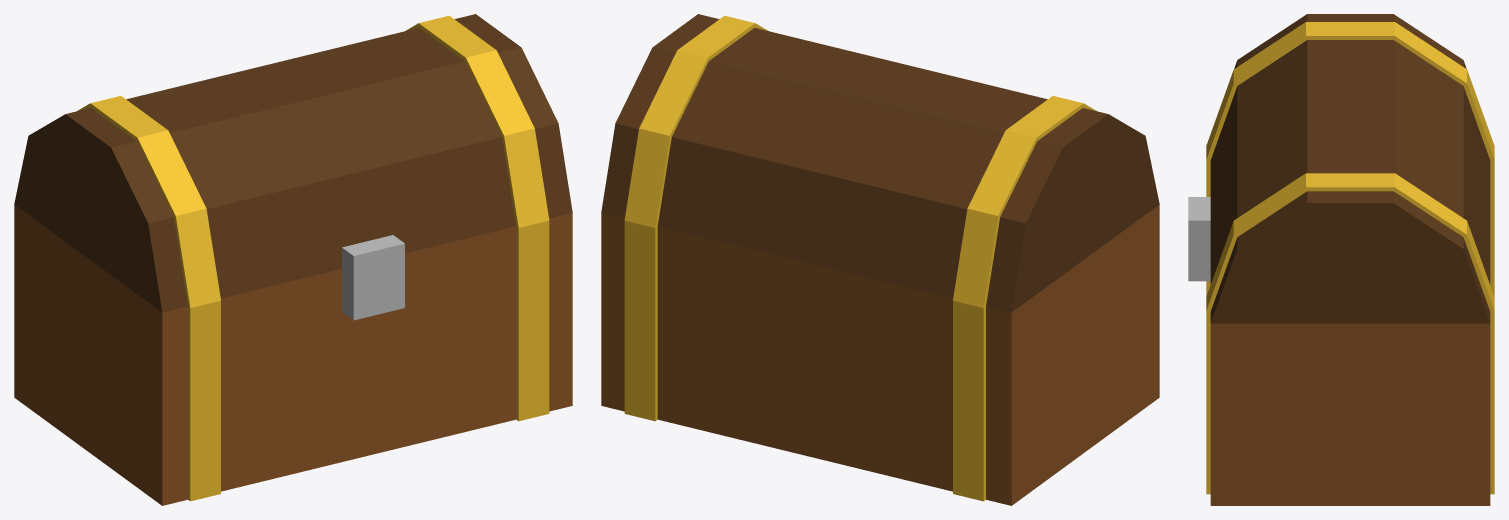
The model's file is treasure_chest.fbx.
3 views of the same model, side by side, from view 1: azimuth 30°, elevation 25°; view 2: azimuth 150°, elevation 25°; view 3: azimuth 270°, elevation 25° (orthographic). The views are drawn at different scales.
Visible parts, largest first — view 1: treasure_chest; view 2: treasure_chest; view 3: treasure_chest.
Boxes of the visible parts, x1,y1,x2,y2 form: treasure_chest: [14, 14, 572, 505]; treasure_chest: [601, 14, 1159, 505]; treasure_chest: [1188, 14, 1494, 505].
Size of the model in its own units: 400 by 303 by 274.
Materials: 1 (1 with a texture image).
